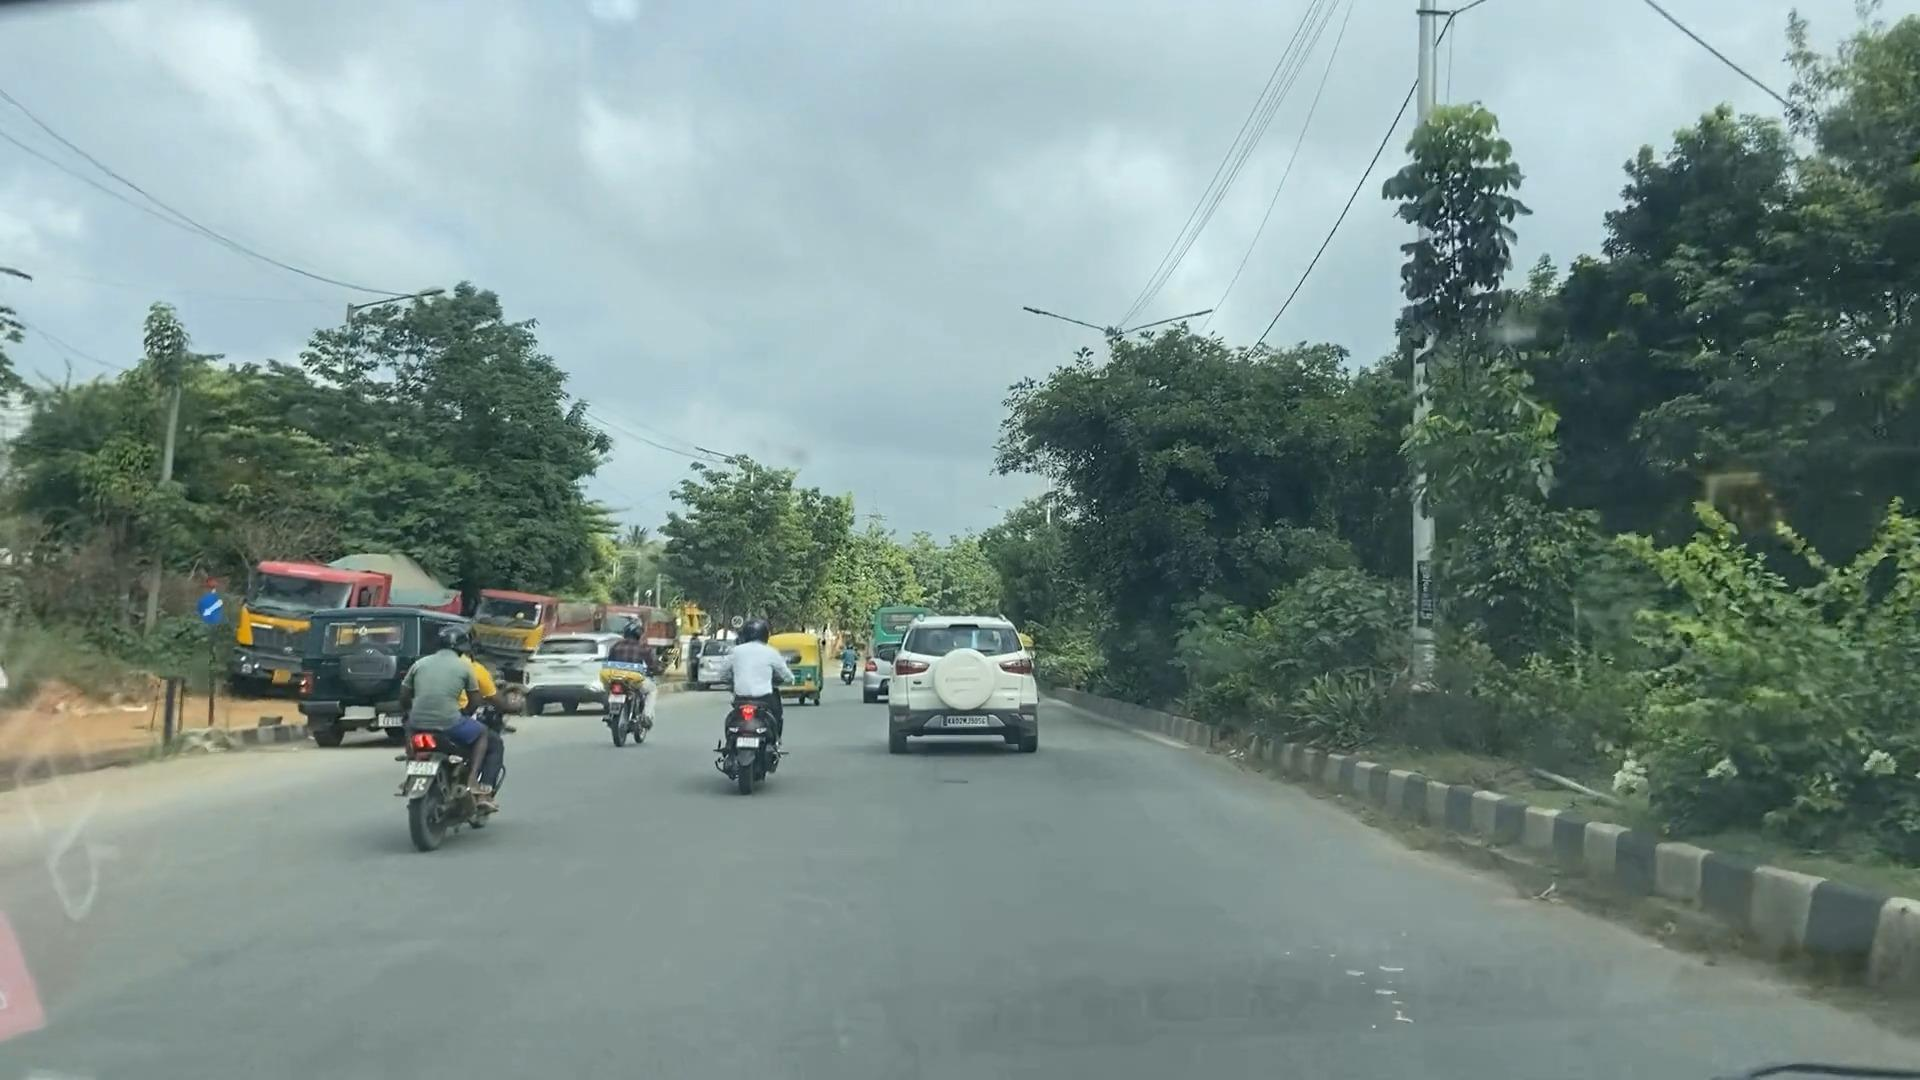HMV: (219, 542, 469, 729), (289, 605, 505, 754)
LMV: (676, 559, 789, 864), (882, 613, 1048, 774), (400, 640, 520, 851), (824, 626, 932, 737), (589, 620, 673, 761)
